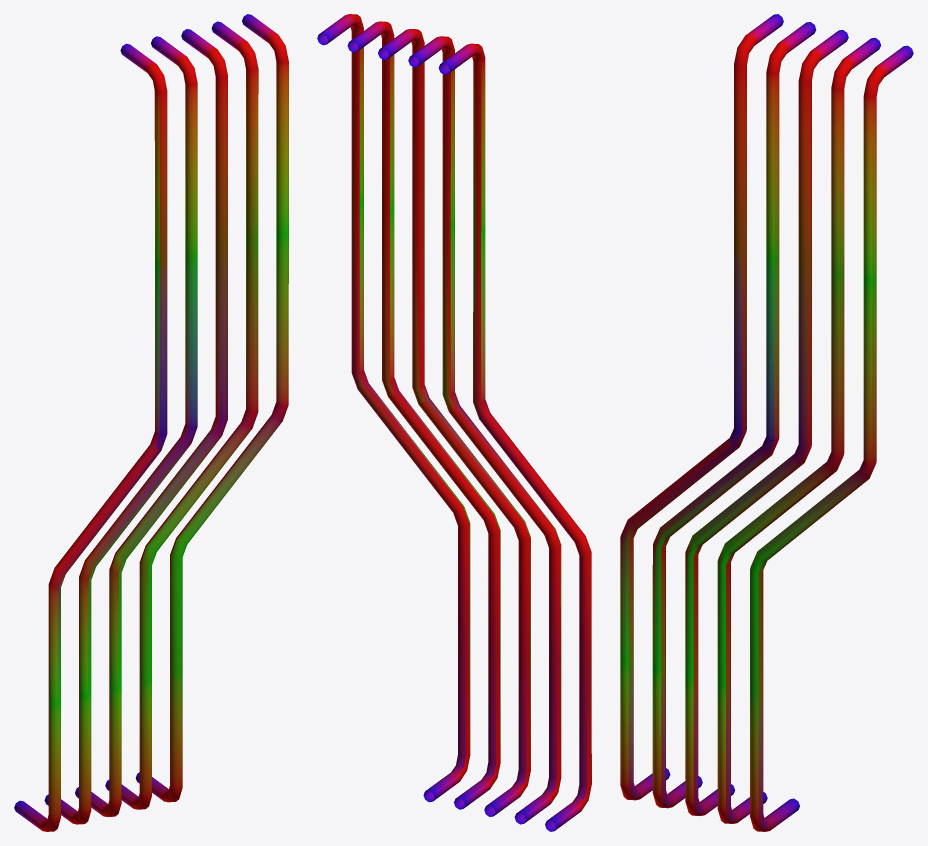
File: AF_PipesA_A.fbx
3 renders of one model, left to right at view 1: azimuth 30°, elevation 25°; view 2: azimuth 150°, elevation 25°; view 3: azimuth 330°, elevation 25°, orthographic. The views are drawn at different scales.
Parts seen in each view (by area): view 1: Plane; view 2: Plane; view 3: Plane.
Part boxes in pixels (x1,y1,x2,y2): Plane: (14, 14, 288, 831); Plane: (317, 14, 591, 831); Plane: (620, 14, 913, 831).
Size of the model in its own units: 157 by 467 by 43.7.
